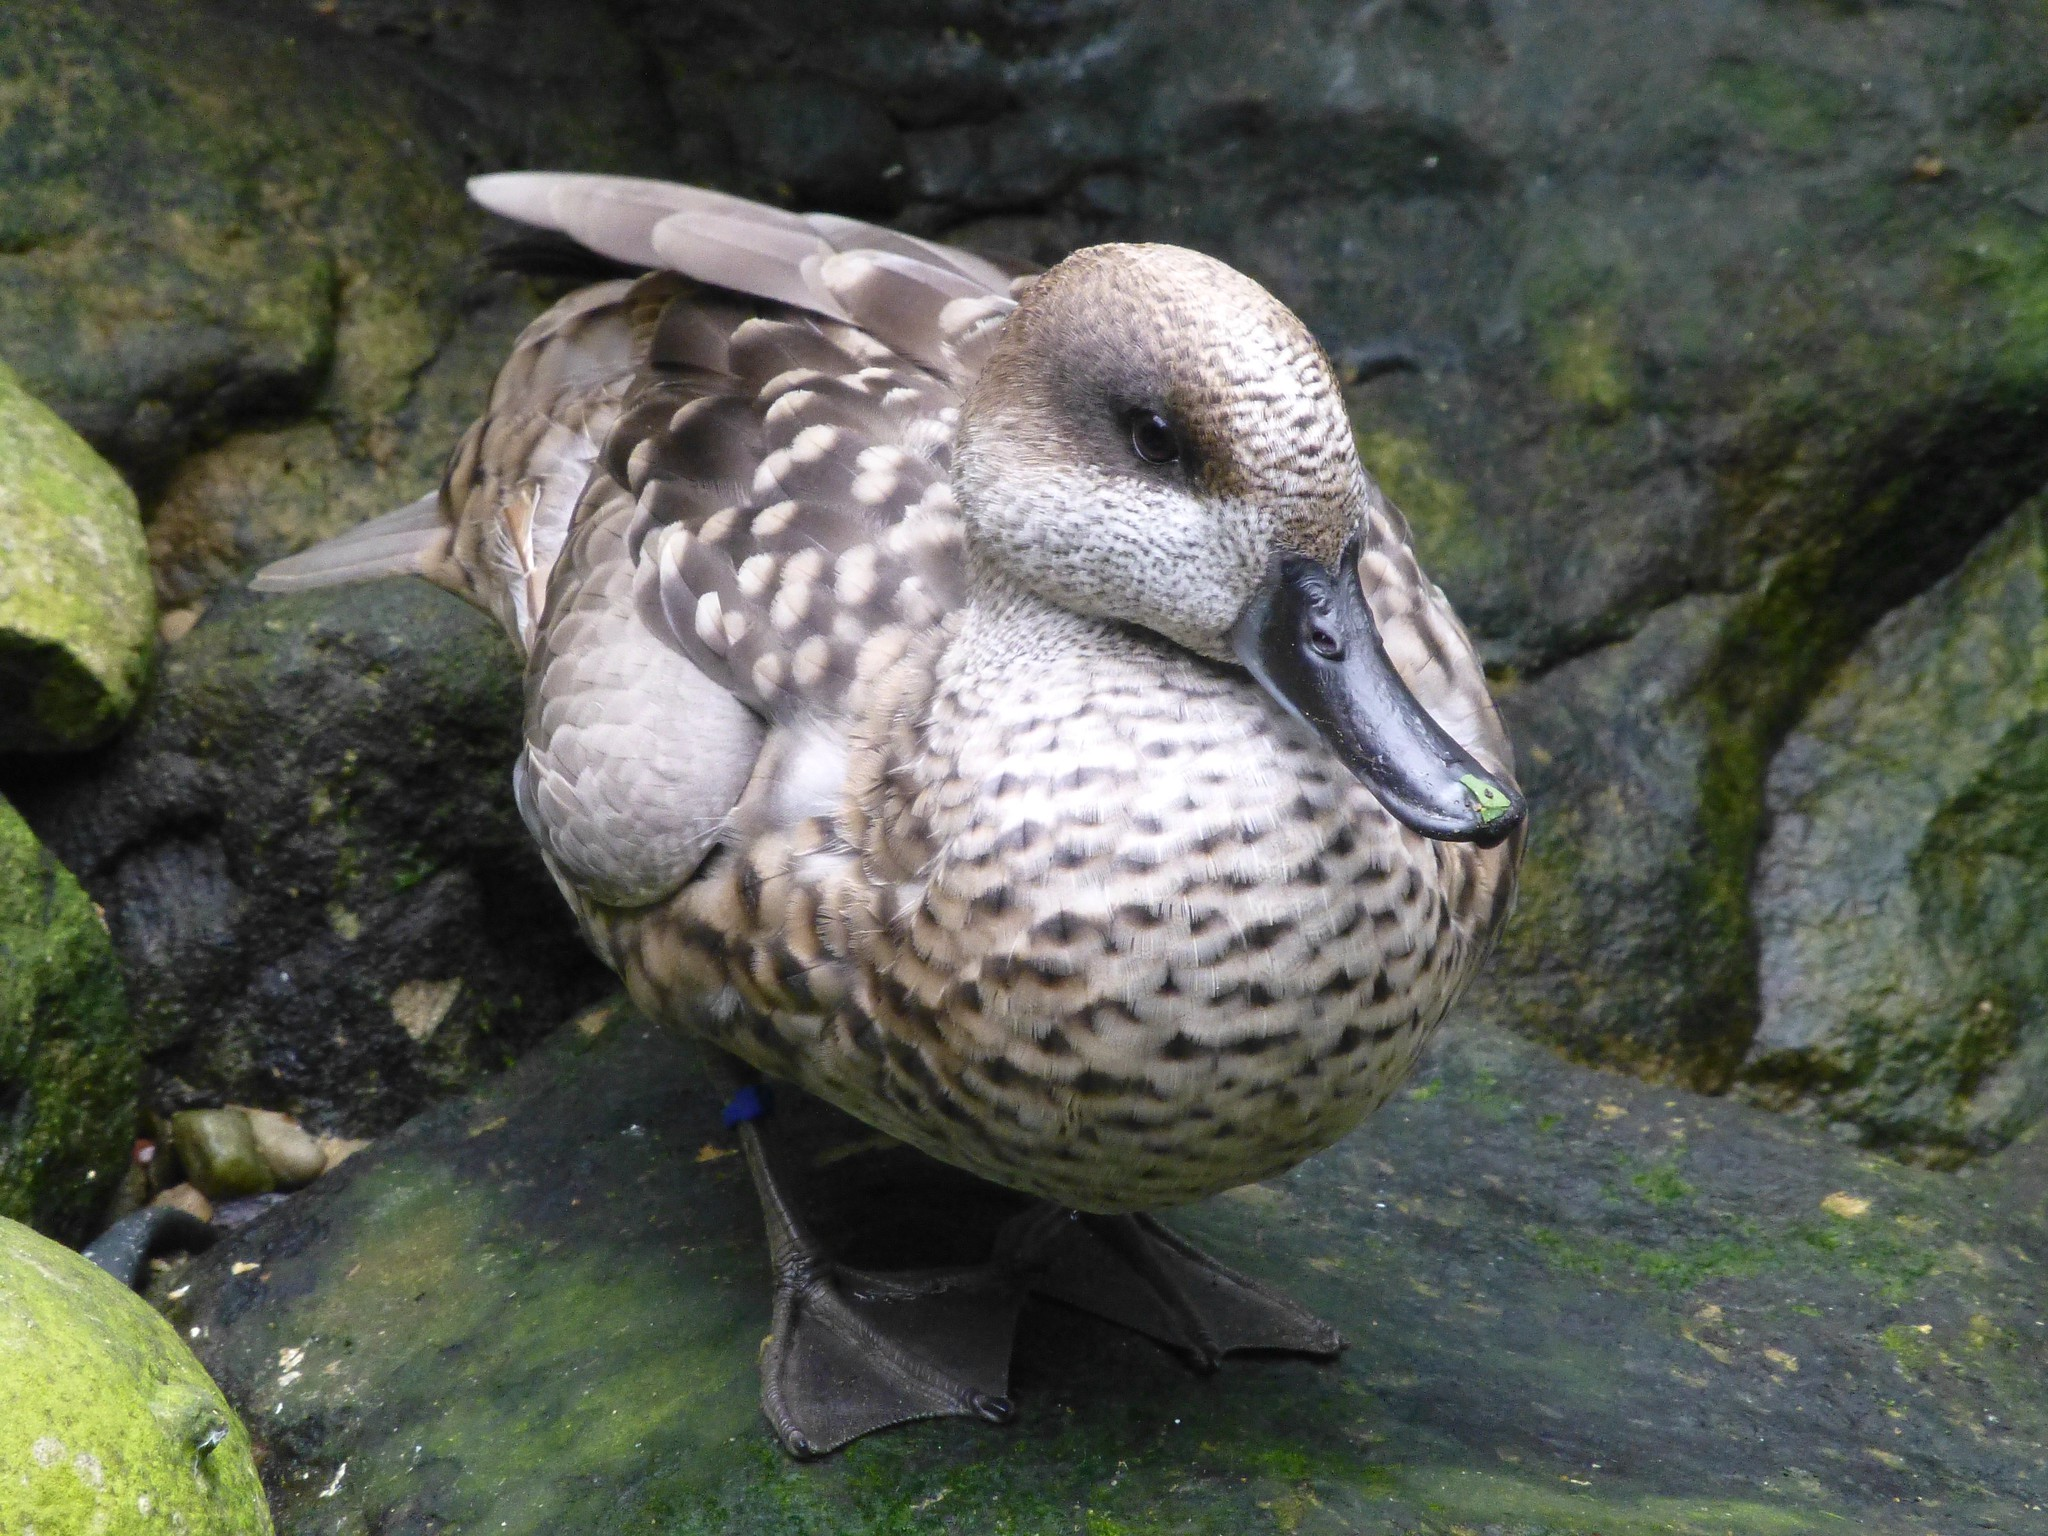bird: (418, 140, 1551, 1441)
